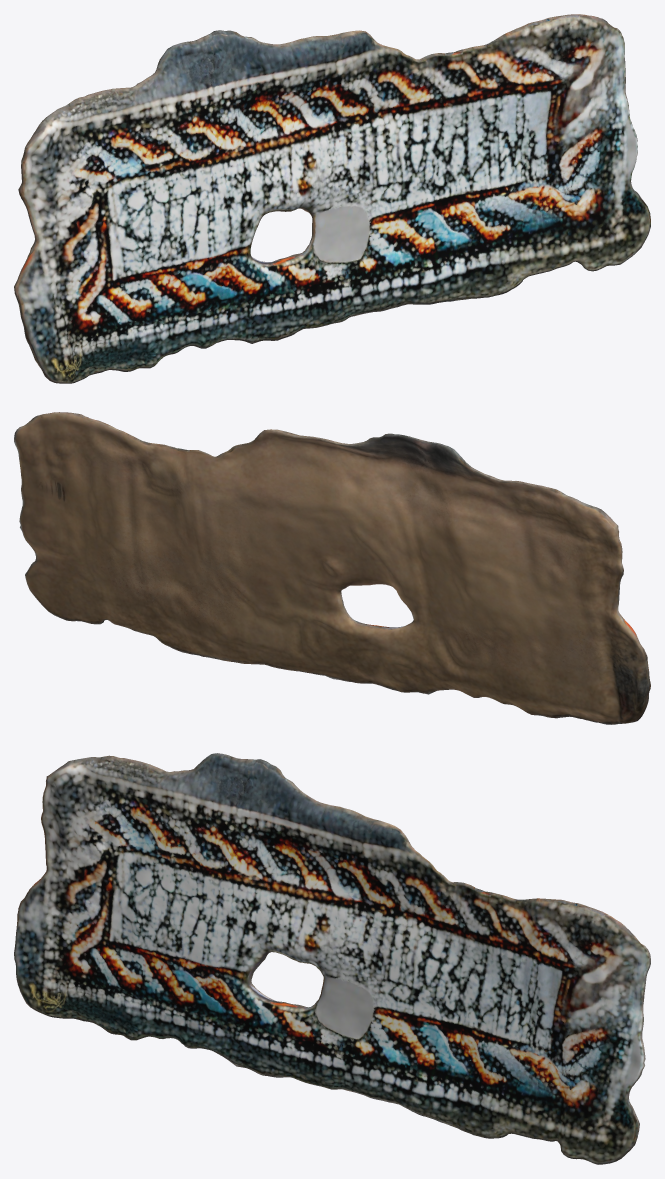
Rendered from primary-compressed.glb.
3 views of the same model, one above another, from view 1: azimuth 30°, elevation 25°; view 2: azimuth 150°, elevation 25°; view 3: azimuth 330°, elevation 25° (orthographic). The views are drawn at different scales.
Size of the model in its own units: 2 by 0.9178 by 0.2195.
1 material, 1 textured.
